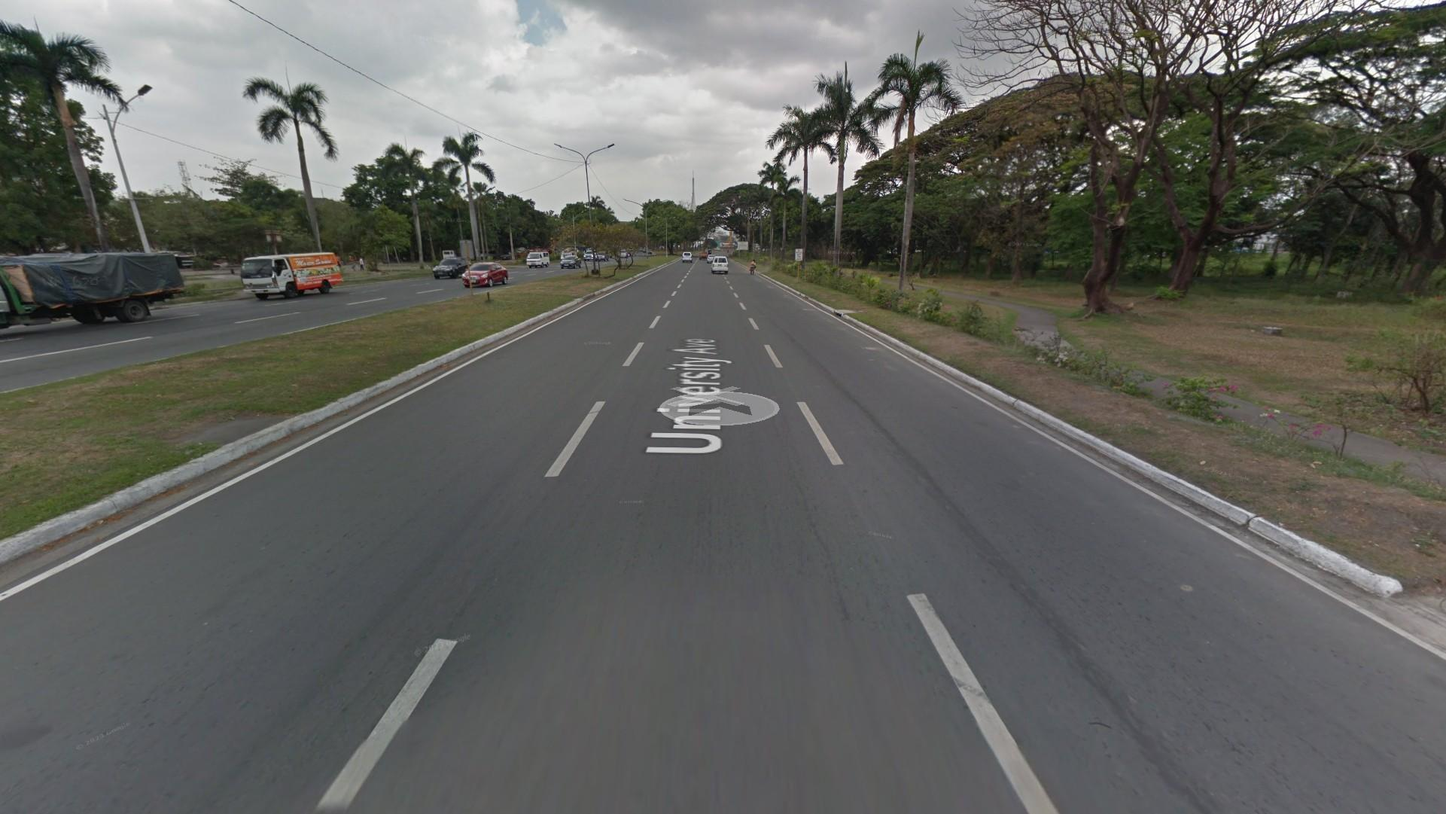pedestrian: (349, 256, 356, 272), (749, 259, 756, 275), (359, 255, 365, 271)
